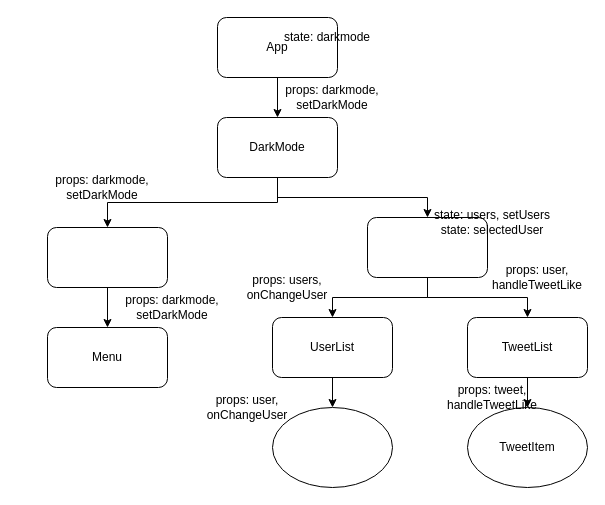
This 605x505 diagram has some shape labels left out. The centre of each missing label's shape, as x and y in pixels:
"Header" goes at pixel 107 257.
"TweetContainer" goes at pixel 427 247.
"UserCard" goes at pixel 332 447.
